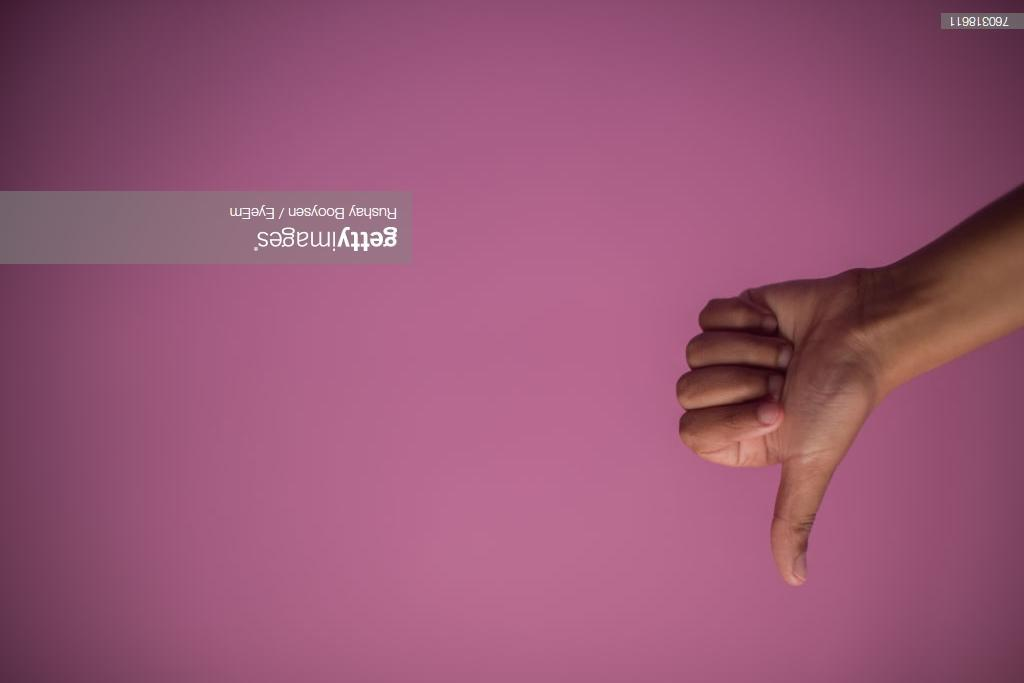thumbsdown: (676, 278, 824, 588)
